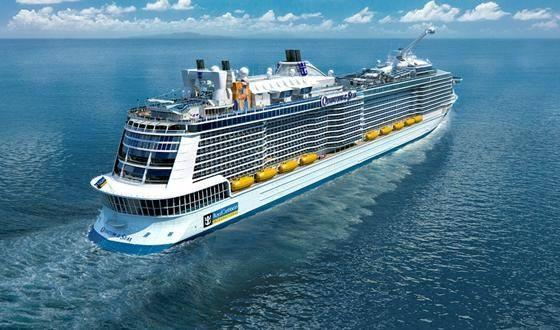youlun: (81, 28, 468, 252)
